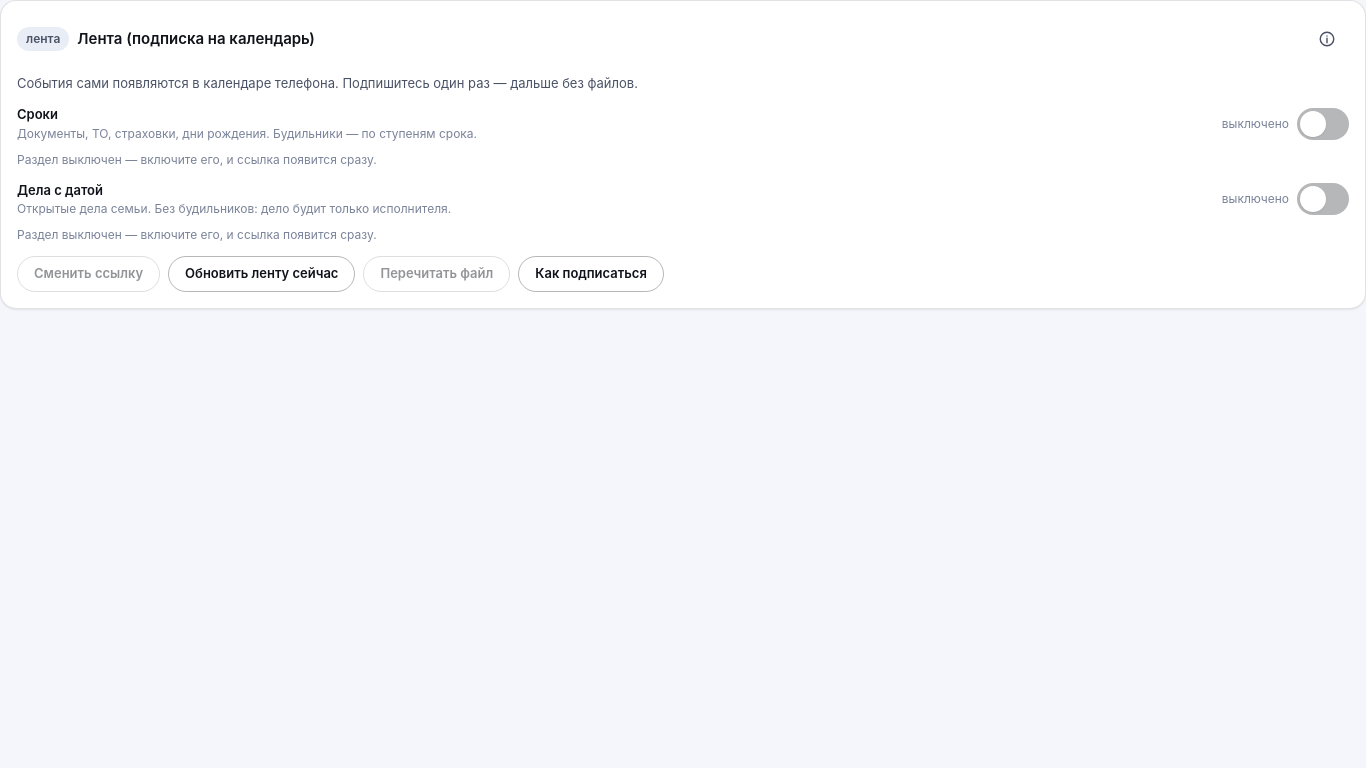
Test: лента в Настройках › подсказка честно говорит про обновление раз в часы и «Удалить будильники»
Click the button "Как подписаться". click: click(591, 274)
box: [518, 256, 664, 292]
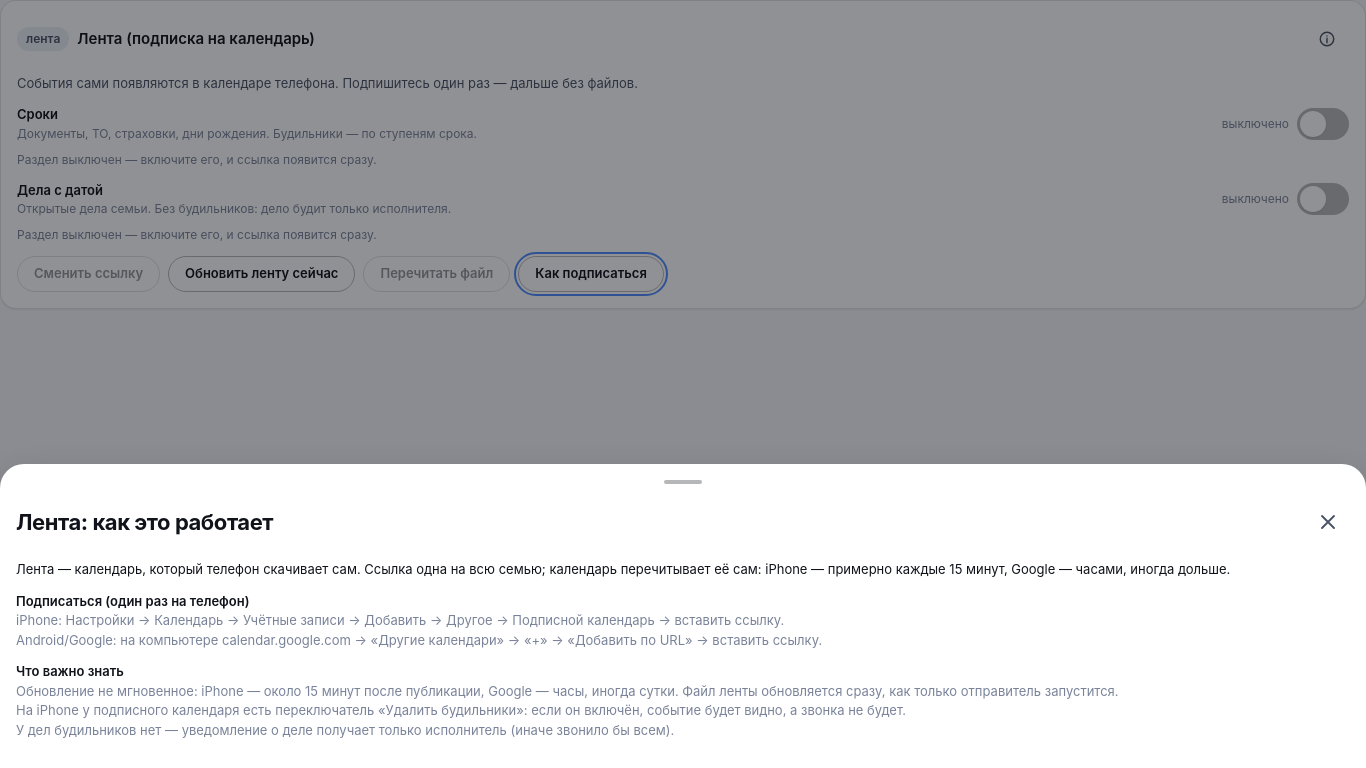
Now the text "Добавить по URL" is shown, box [16, 632, 822, 648]
Now the text "часы, иногда сутки" is shown, box [16, 682, 1118, 698]
Now the text "Удалить будильники" is shown, box [16, 702, 906, 718]
